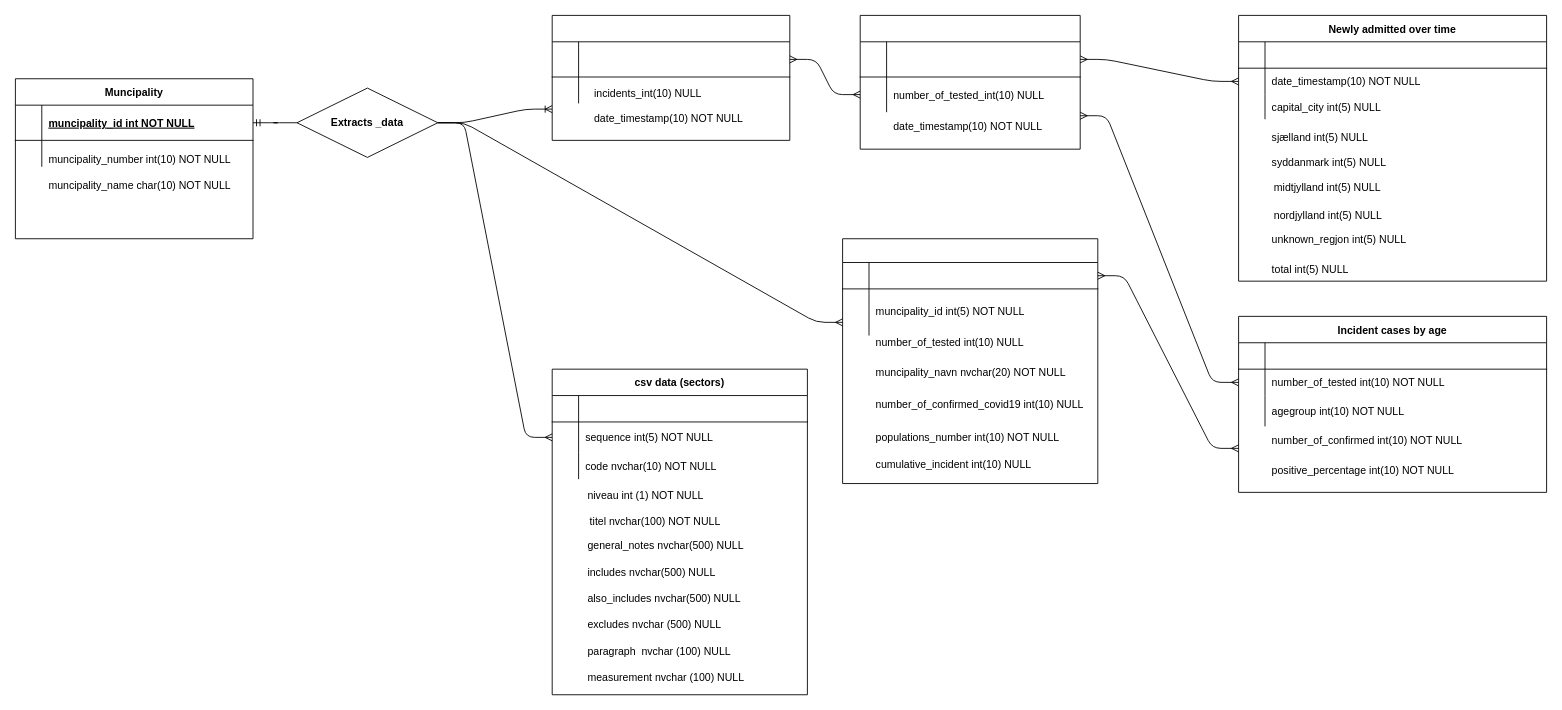
Some shapes in this 1562 by 710 pixel diagram are drawn without their labels. Here are the shapes that lost their labels. From the top down, the box of each, then its label:
(551, 15, 790, 140): Muncipality Incidents data
(859, 15, 1080, 149): Tested for incident data
(842, 238, 1098, 484): Muncipality tested positiv
